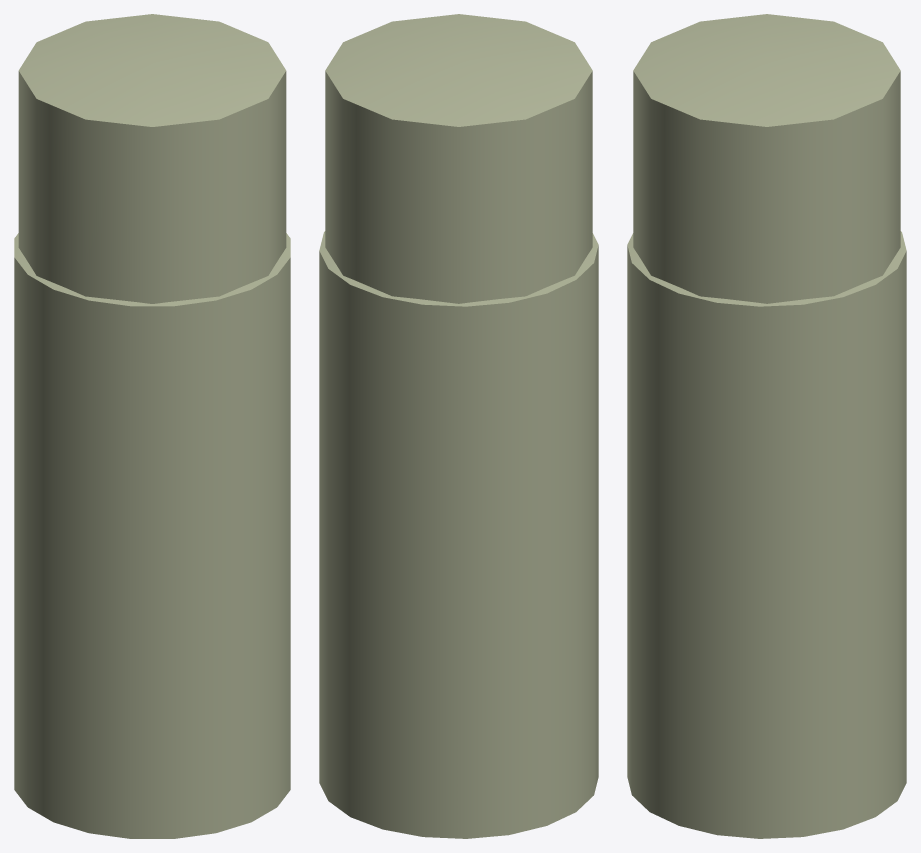
The model's file is SM_SprayCan_Capped_01c.FBX.
The picture shows the model from 3 angles, left to right: view 1: azimuth 30°, elevation 25°; view 2: azimuth 150°, elevation 25°; view 3: azimuth 270°, elevation 25°; orthographic projection.
Parts seen in each view (by area): view 1: SM_SprayCan_Capped_01c_LOD0; view 2: SM_SprayCan_Capped_01c_LOD0; view 3: SM_SprayCan_Capped_01c_LOD0.
Boxes of the visible parts, x1=… form: SM_SprayCan_Capped_01c_LOD0: x1=14, y1=14, x2=290, y2=838; SM_SprayCan_Capped_01c_LOD0: x1=319, y1=14, x2=598, y2=838; SM_SprayCan_Capped_01c_LOD0: x1=627, y1=14, x2=906, y2=838.
Size of what is drawn, in the model's own units: 7.28 by 20.69 by 7.28.
